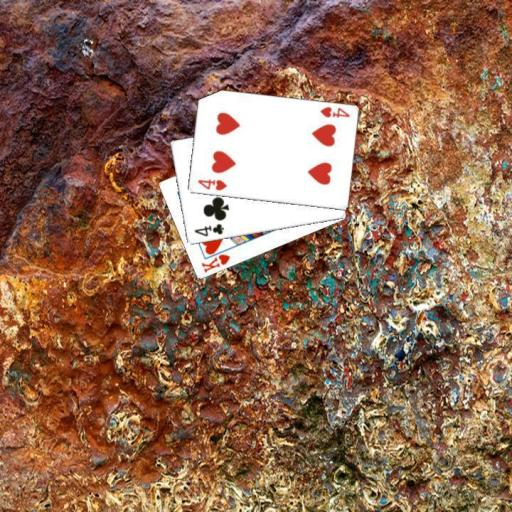card-corner: (198, 251, 232, 275), (190, 221, 226, 238), (195, 176, 227, 192), (317, 104, 351, 119)
